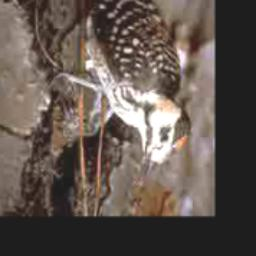Woodpecker: (58, 0, 190, 197)
